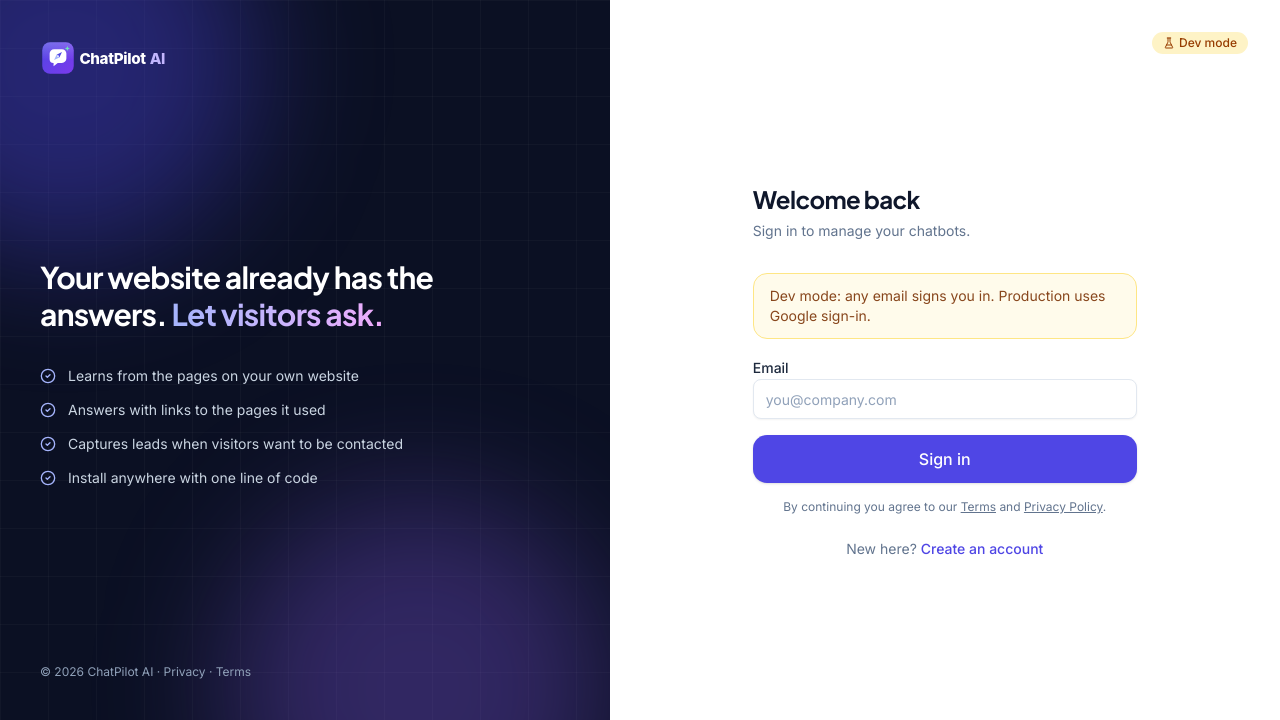
it: LoginPage (dev mode) › shows the API error message when sign-in fails
Type "a@b.co" into the field labelled "Email".
click(945, 399); type("a@b.co")  # box [753,379,1137,419]
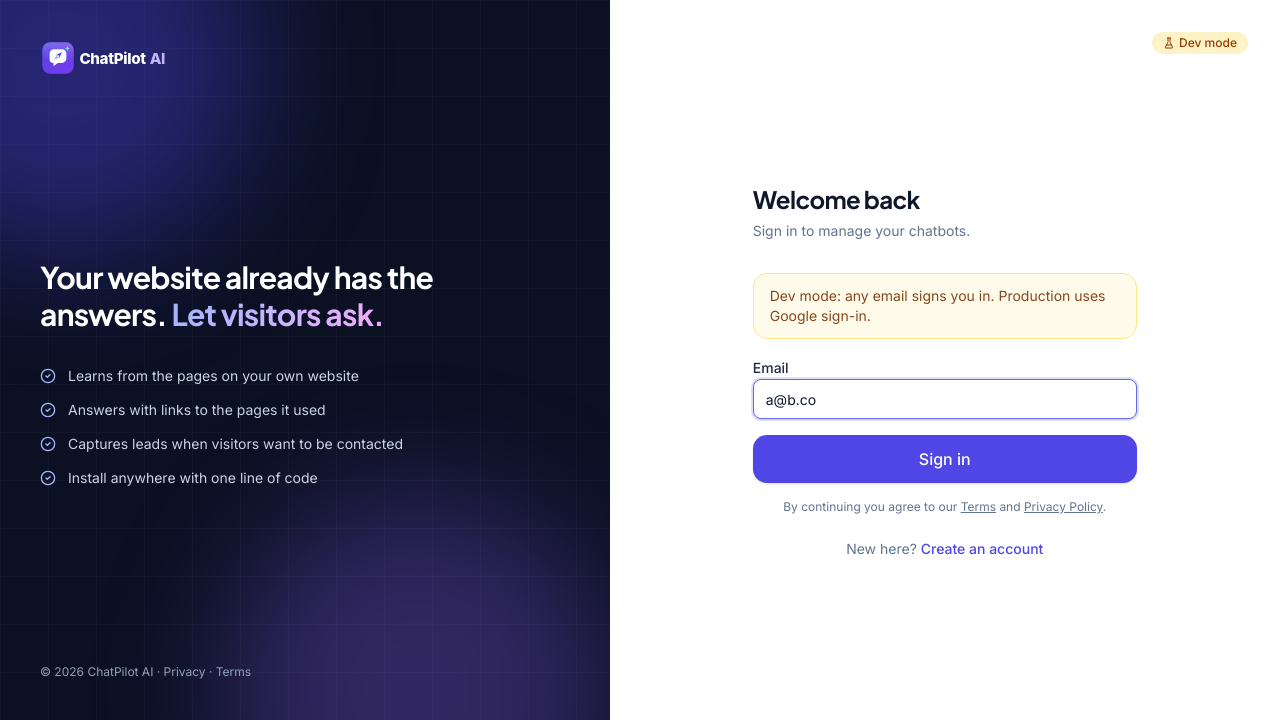
Click the button "Sign in".
click(945, 459)  # box [753,435,1137,483]
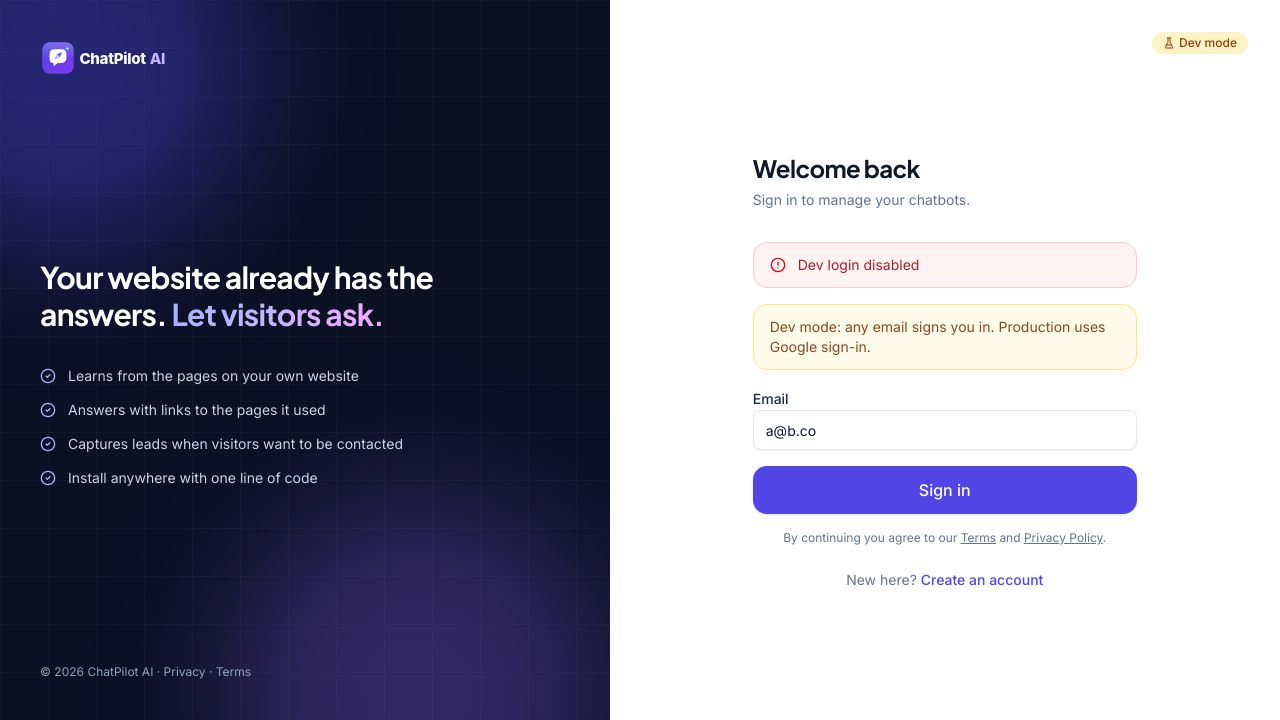
Check: the text "Dev login disabled" is shown, box [798,256,920,273]
